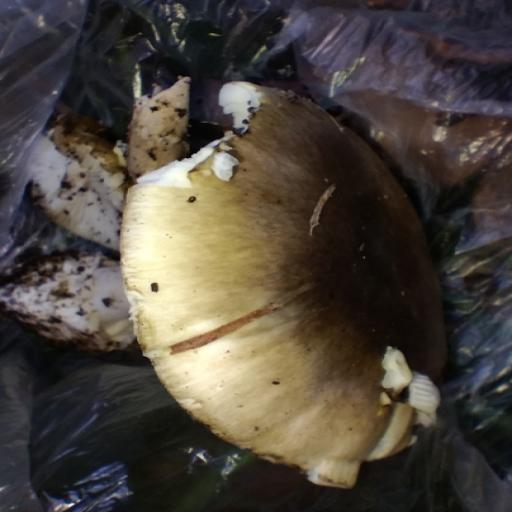Death Cap: (54, 55, 512, 512)
